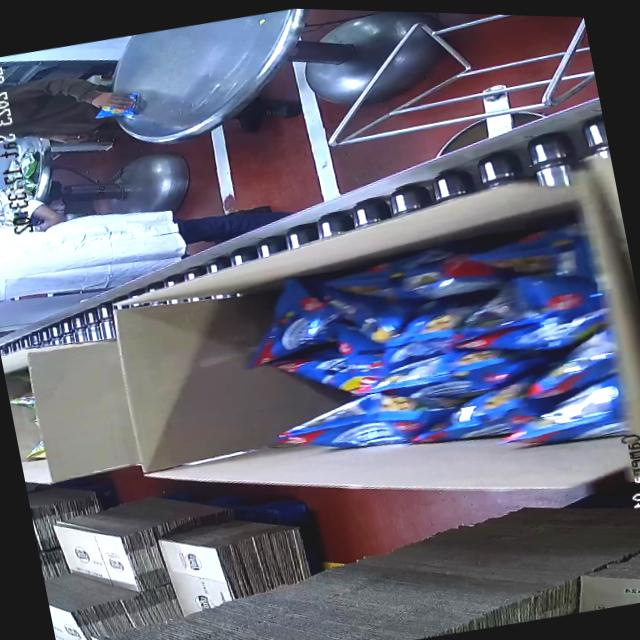PAPRIKA: (223, 204, 634, 499)
